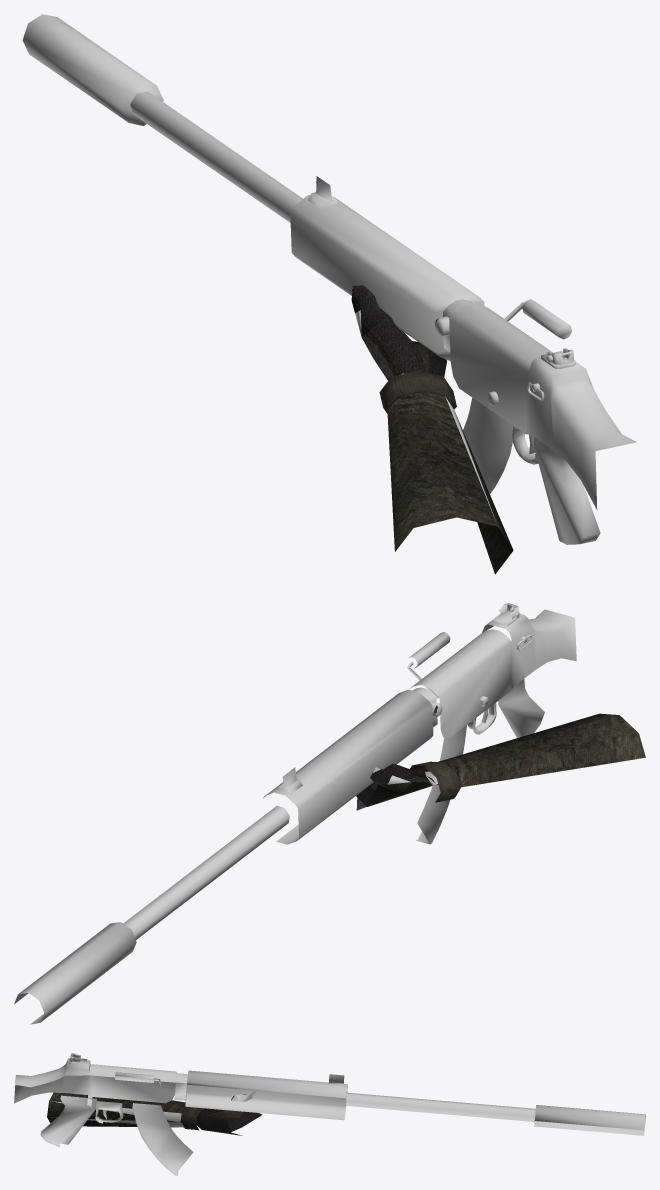
Rendered from BLAH.fbx.
3 renders of one model, top to bottom at view 1: azimuth 30°, elevation 25°; view 2: azimuth 150°, elevation 25°; view 3: azimuth 270°, elevation 25°, orthographic. The views are drawn at different scales.
Parts seen in each view (by area): view 1: GunNhANDS; view 2: GunNhANDS; view 3: GunNhANDS.
Boxes of the visible parts, bbox=[...] form: GunNhANDS: bbox=[22, 14, 636, 574]; GunNhANDS: bbox=[14, 603, 645, 1024]; GunNhANDS: bbox=[14, 1053, 645, 1175].
Size of the model in its own units: 1395 by 1269 by 6284.
